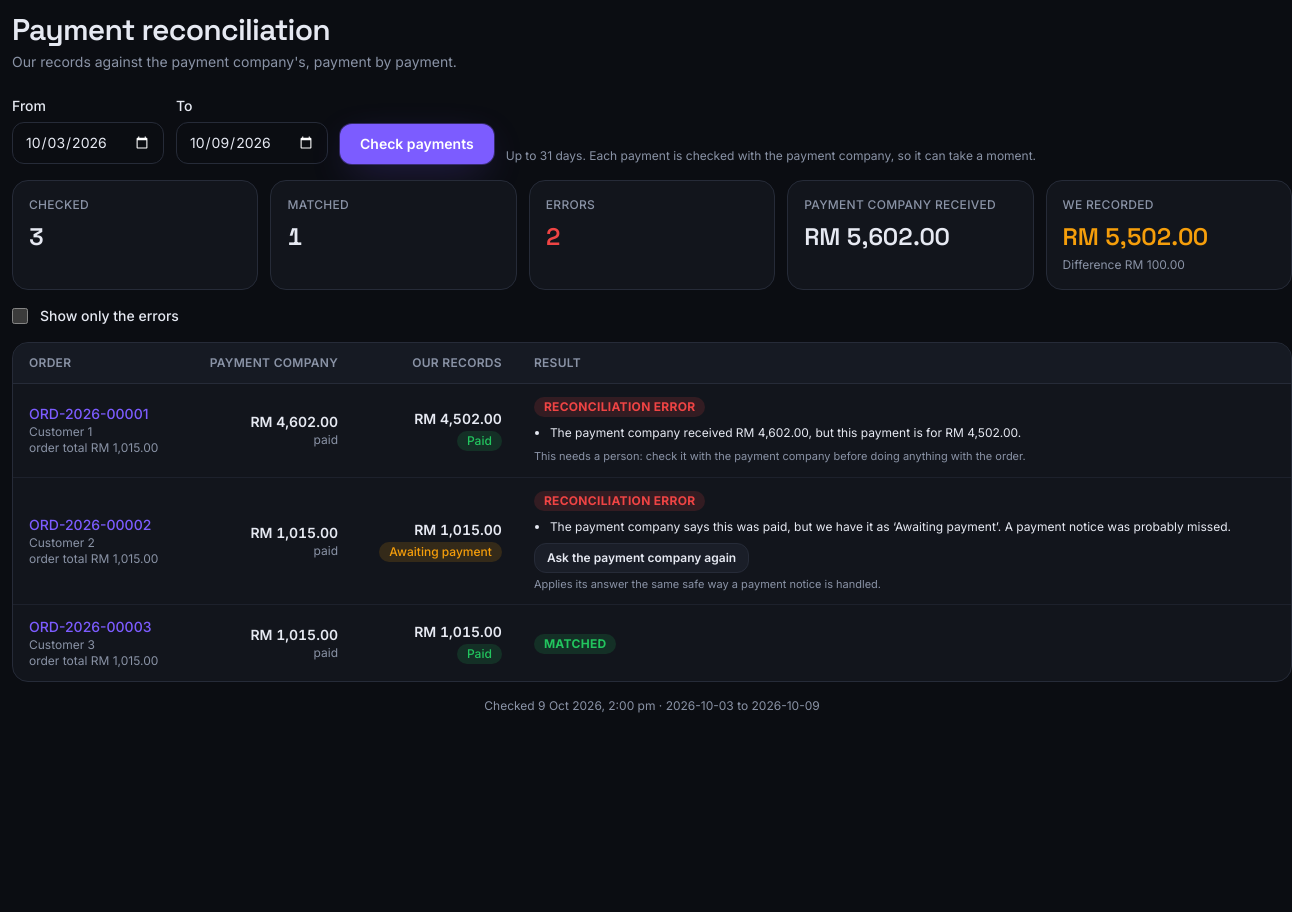
payment reconciliation › can show only the errors
Click the checkbox labelled "Show only the errors": (20, 316) [12, 308, 28, 324]
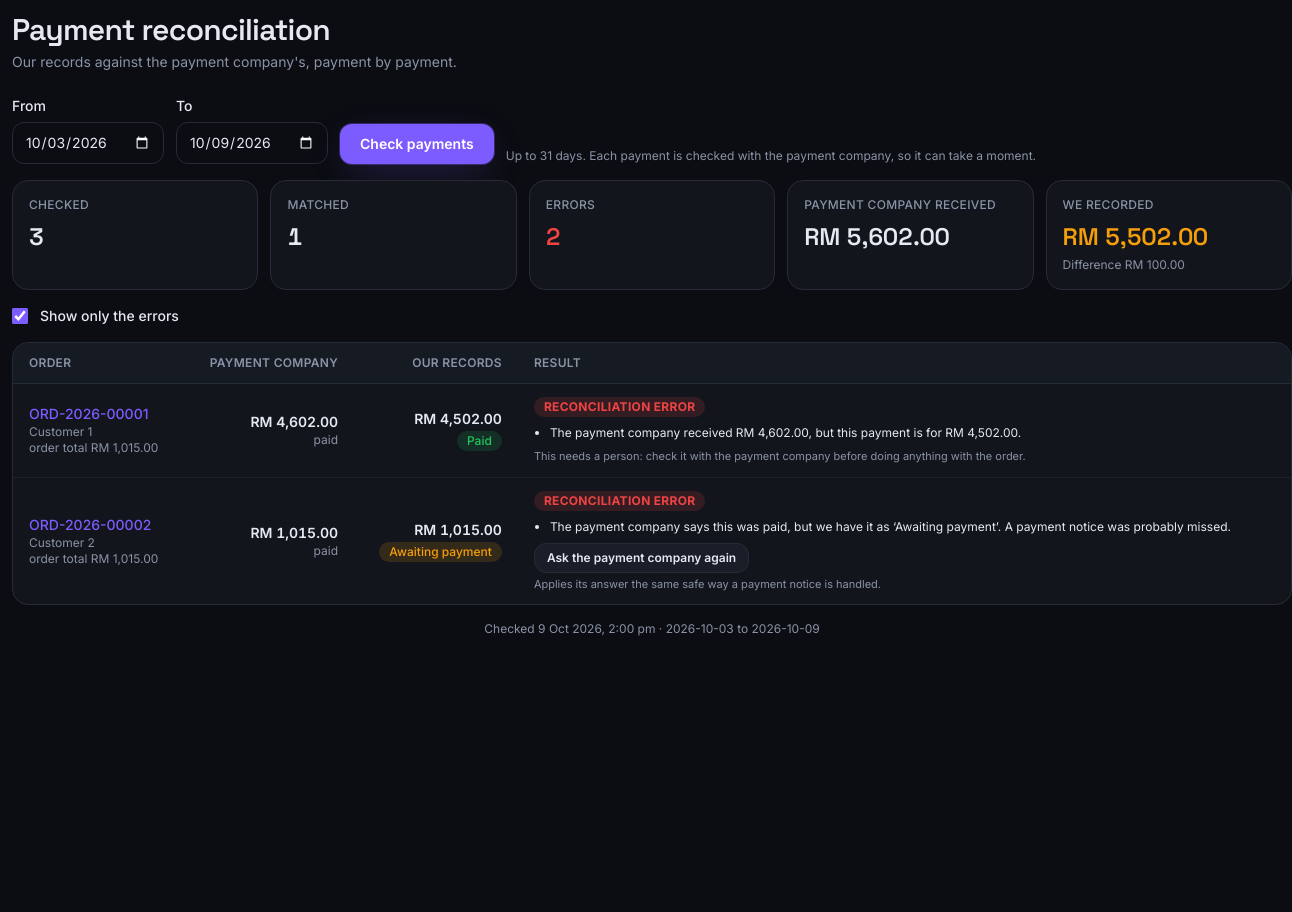
Expected: the number of rows with test id "row-ERROR" is 2, [13, 384, 1291, 477]; [13, 477, 1291, 604]
Expected: no rows with test id "row-MATCHED" are shown
